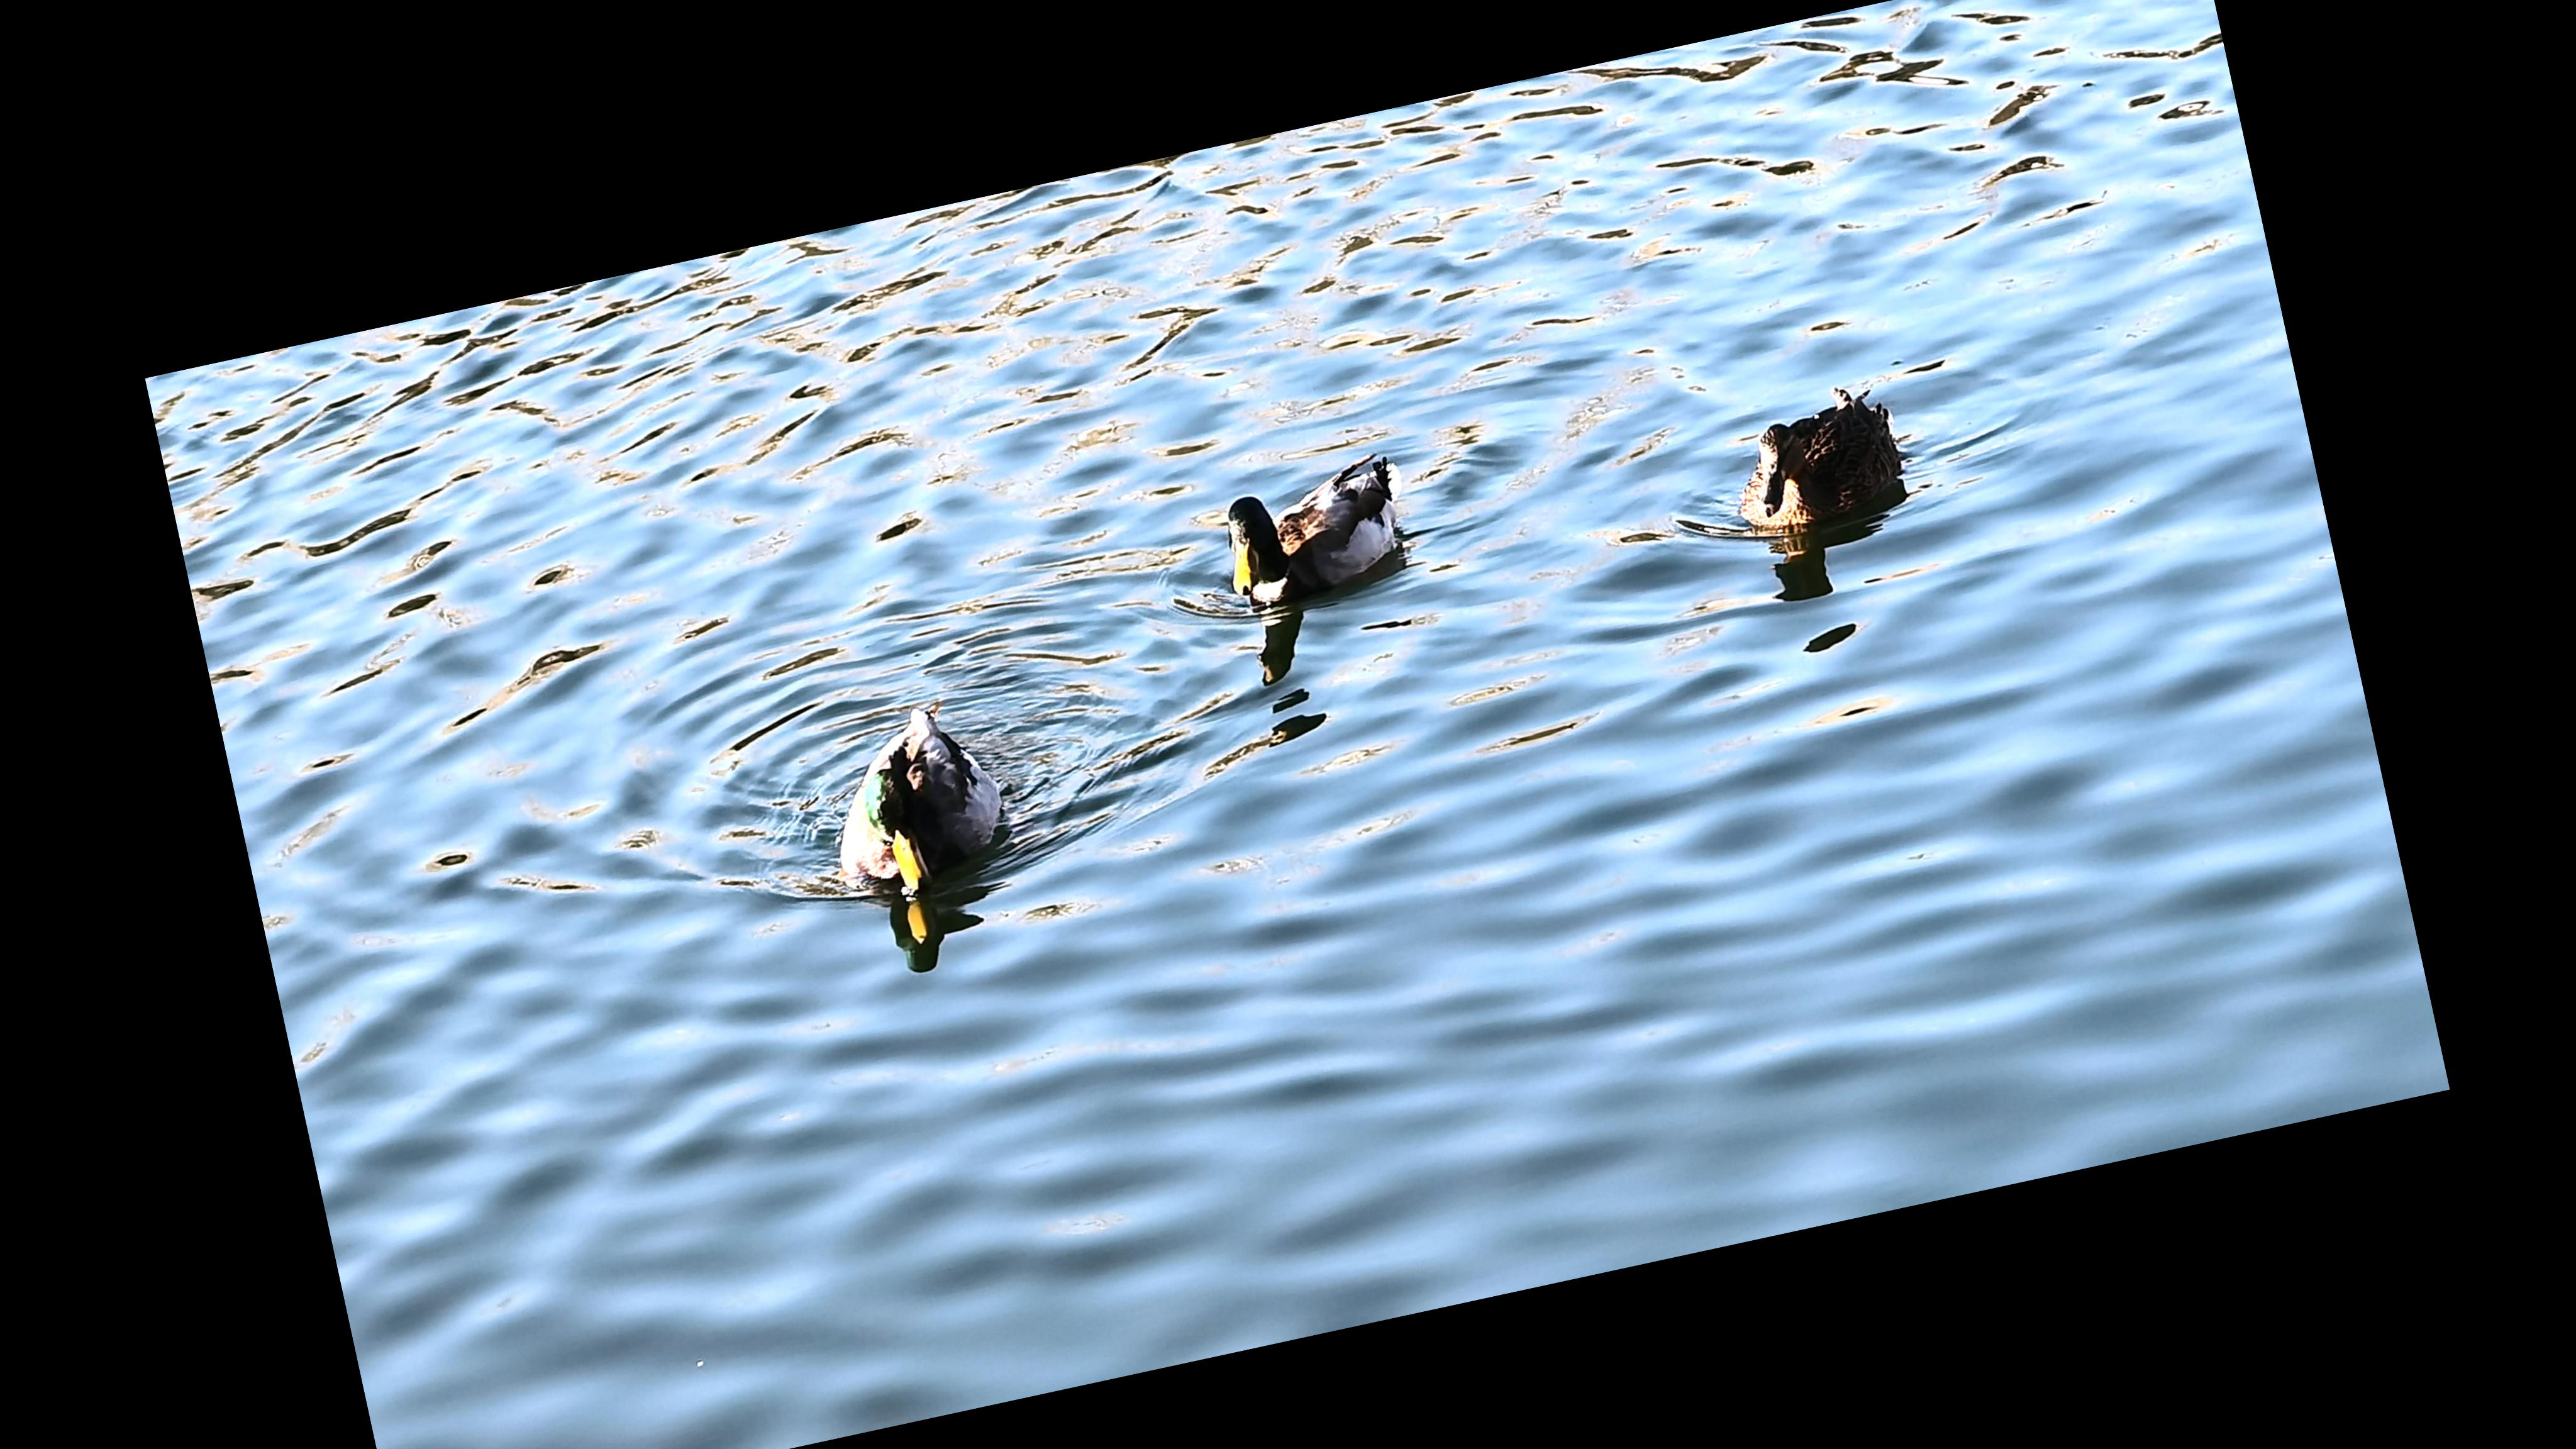duck: (773, 681, 1062, 991), (1709, 359, 1959, 594), (1196, 430, 1444, 640)
